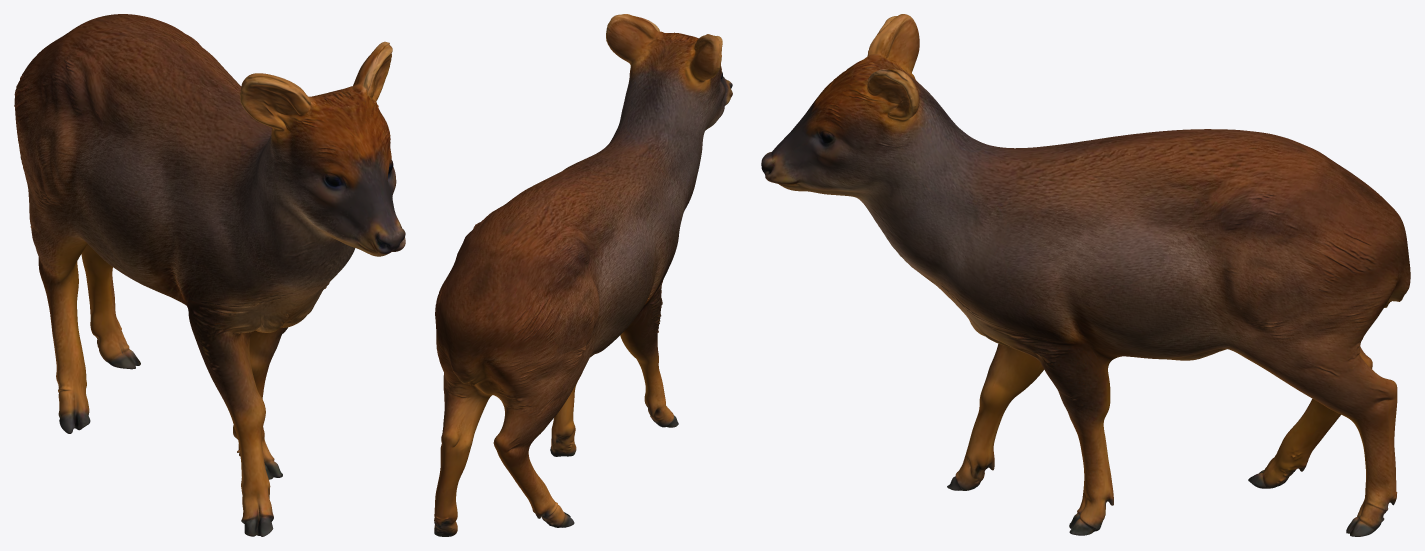
File: pudu.glb
The picture shows the model from 3 angles, left to right: view 1: azimuth 30°, elevation 25°; view 2: azimuth 150°, elevation 25°; view 3: azimuth 270°, elevation 25°; orthographic projection. The views are drawn at different scales.
Visible parts, largest first — view 1: material; view 2: material; view 3: material.
Part boxes in pixels (x1,y1,x2,y2): material: (14, 14, 405, 536); material: (434, 14, 732, 536); material: (761, 14, 1410, 536).
Bounding box in the file's own units: 0.3005 × 0.7982 × 1.
1 material, 1 textured.
